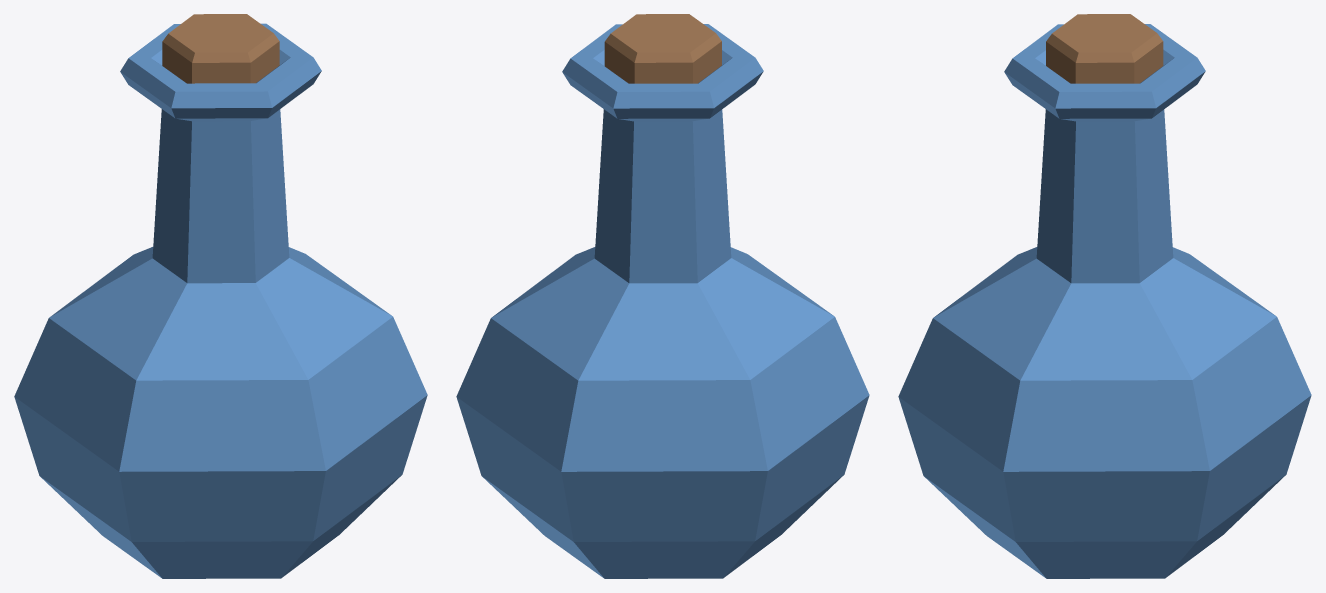
The model's file is Blue_Potion_11.fbx.
3 views of the same model, side by side, from view 1: azimuth 30°, elevation 25°; view 2: azimuth 150°, elevation 25°; view 3: azimuth 270°, elevation 25° (orthographic).
Parts seen in each view (by area): view 1: Blue_Potion_11; view 2: Blue_Potion_11; view 3: Blue_Potion_11.
Part boxes in pixels (x1,y1,x2,y2): Blue_Potion_11: [14, 14, 427, 578]; Blue_Potion_11: [456, 14, 869, 578]; Blue_Potion_11: [898, 14, 1311, 578].
Bounding box in the file's own units: 18.05 × 27.78 × 20.73.
